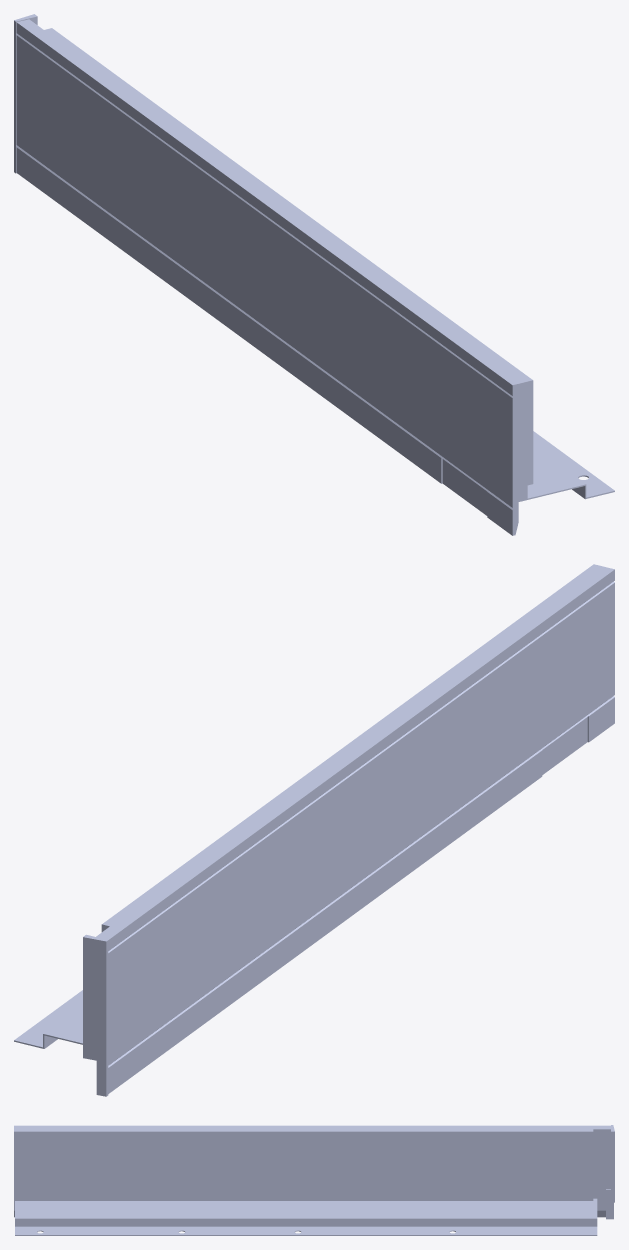
File: lg-kava-M550-p.glb
3 renders of one model, top to bottom at view 1: azimuth 30°, elevation 25°; view 2: azimuth 150°, elevation 25°; view 3: azimuth 270°, elevation 25°, orthographic. The views are drawn at different scales.
Parts seen in each view (by area): view 1: 41663624; view 2: 41663624; view 3: 41663624.
Part boxes in pixels (<box>): 41663624: <box>14,14,614,535</box>; 41663624: <box>14,564,614,1096</box>; 41663624: <box>14,1125,614,1235</box>.
Size of the model in its own units: 0.0653 by 0.0912 by 0.5435.
